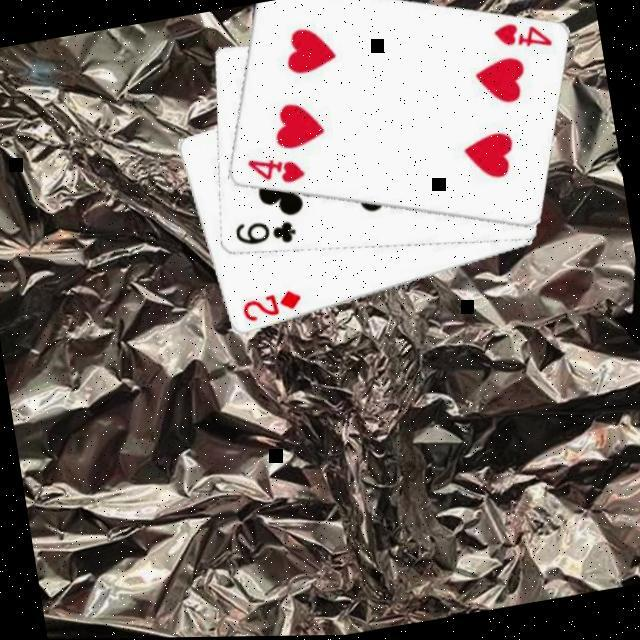2D: (235, 284, 305, 325)
4H: (487, 14, 554, 60), (241, 147, 307, 193)
6C: (227, 210, 298, 255)
